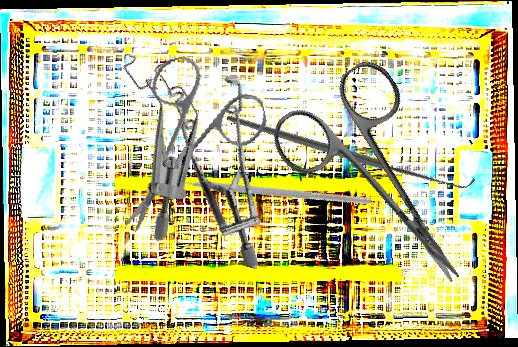Chopper: (156, 88, 374, 281)
Hook Surgical: (225, 22, 476, 277)
Iris Scissors: (262, 52, 508, 322), (91, 41, 285, 234)
Speculum: (126, 58, 312, 270), (66, 37, 249, 244)
